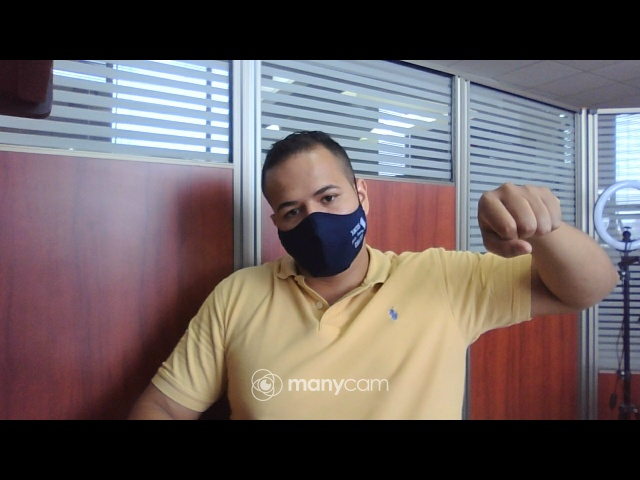Yes: (476, 178, 565, 263)
